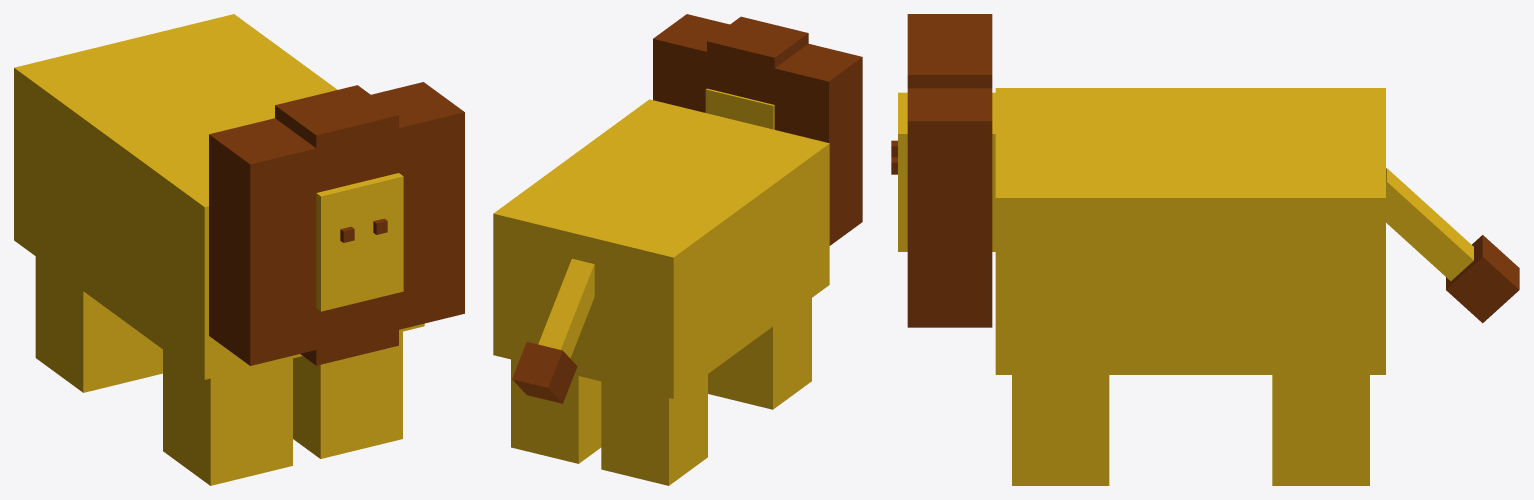
The model's file is BeastPackHead.fbx.
The picture shows the model from 3 angles, left to right: view 1: azimuth 30°, elevation 25°; view 2: azimuth 150°, elevation 25°; view 3: azimuth 270°, elevation 25°; orthographic projection. The views are drawn at different scales.
Parts seen in each view (by area): view 1: Cube.001, Cube.011; view 2: Cube.001, Cube.011, Cube.008; view 3: Cube.001, Cube.011, Cube.008.
Boxes of the visible parts, box(x1,y1,x2,y2) form: Cube.001: box(14, 14, 424, 485); Cube.011: box(209, 82, 464, 365); Cube.001: box(493, 88, 829, 485); Cube.011: box(653, 14, 862, 245); Cube.008: box(512, 342, 577, 403); Cube.001: box(898, 88, 1473, 485); Cube.011: box(907, 14, 992, 327); Cube.008: box(1446, 235, 1519, 323).
Bounding box in the file's own units: 80 × 130 × 193.
